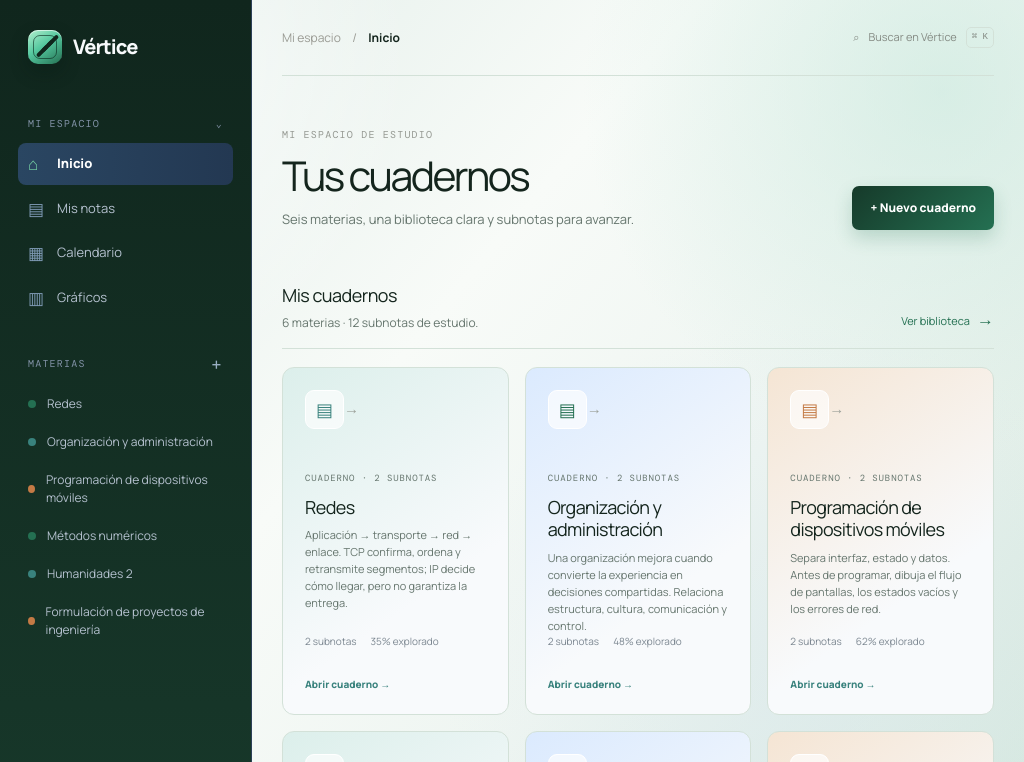
Test: panel principal de estudio › permite programar varias tareas en un día
This screenshot has width=1024, height=762.
Step 1. Click the button "▦ Calendario" → (126, 253), box [18,232,233,274]
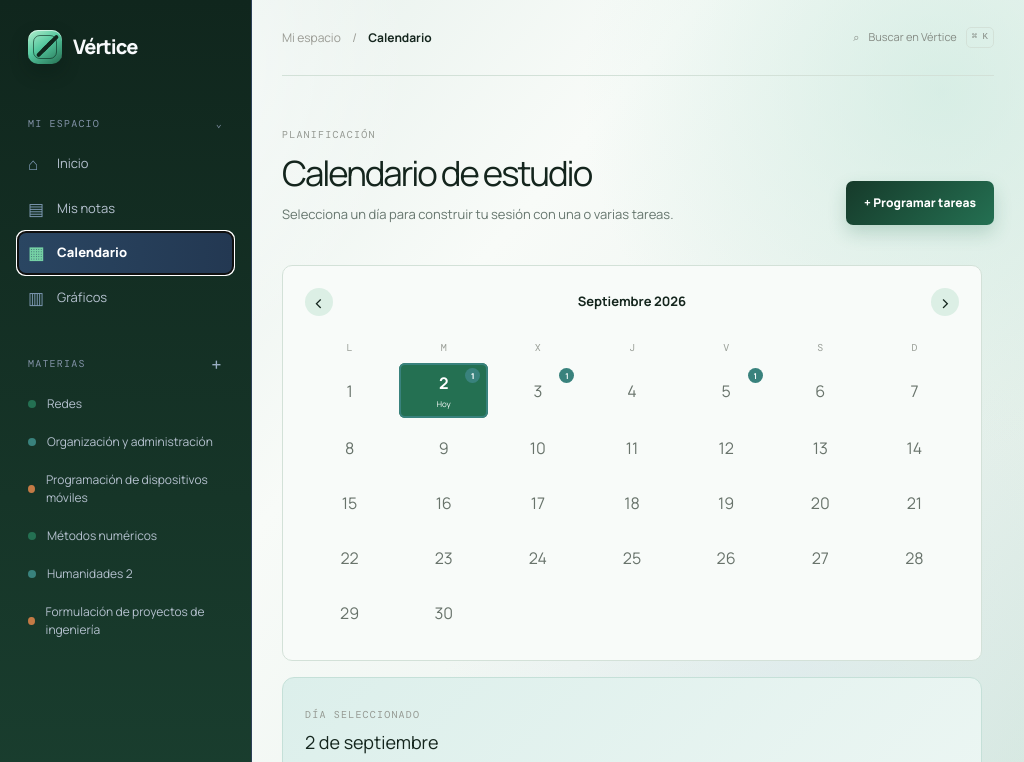
Step 2. Click the button named "Programar tareas para el 10 de septiembre" → (538, 448), box [493,423,582,473]
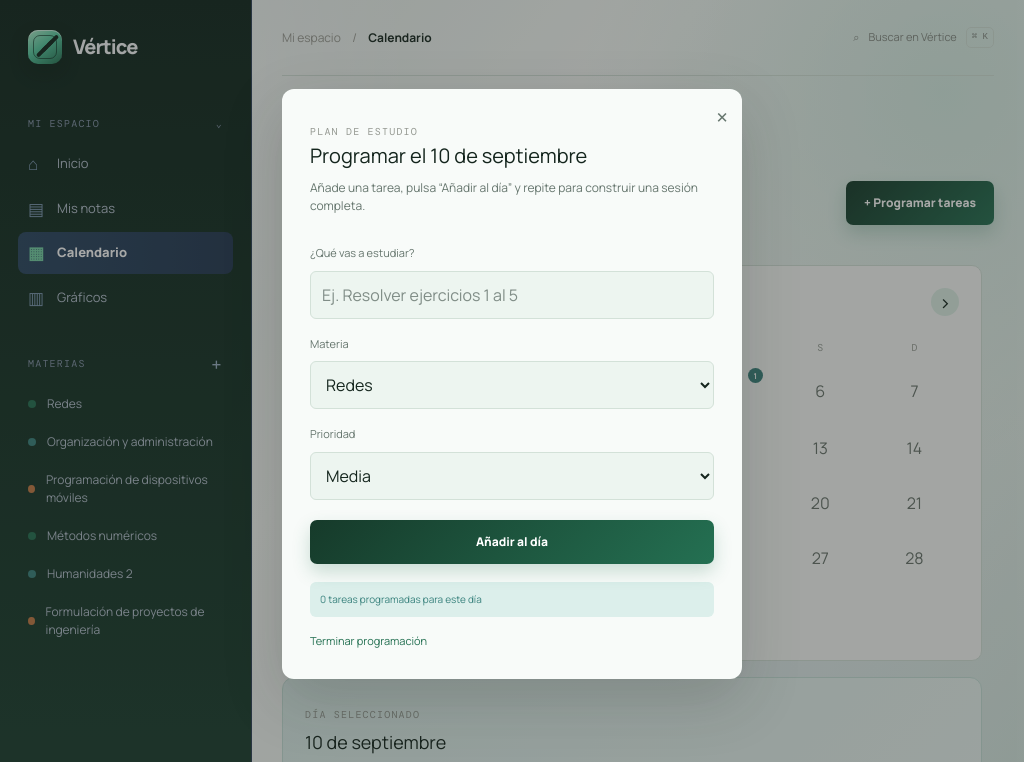
Step 3. Type "Resolver ejercicios de redes" into the field labelled "¿Qué vas a estudiar?" → (512, 295), box [310,271,714,319]
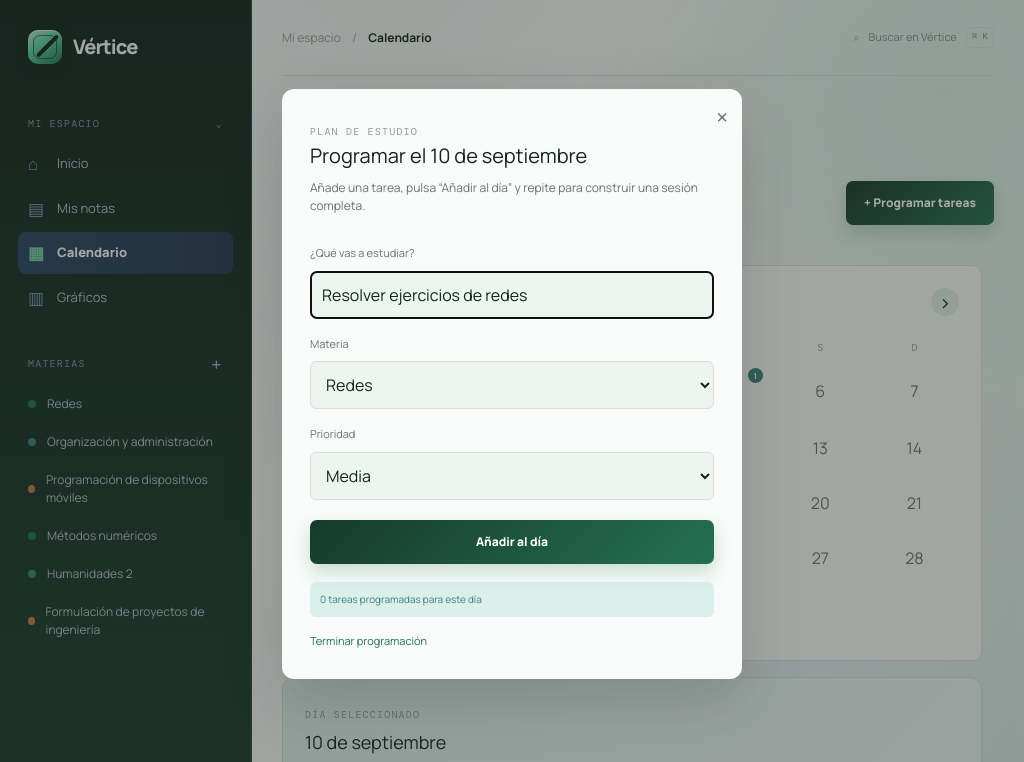
Step 4. Click the button "Añadir al día" → (512, 542), box [310,520,714,564]
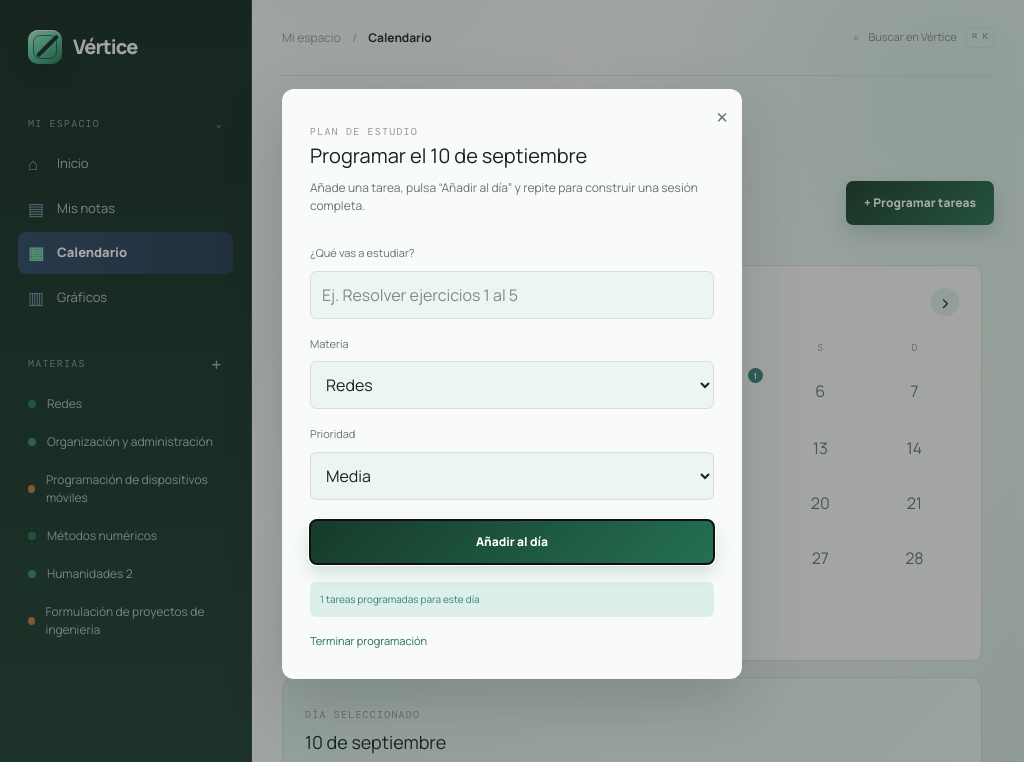
Step 5. Type "Repasar modelo OSI" into the field labelled "¿Qué vas a estudiar?" → (512, 295), box [310,271,714,319]
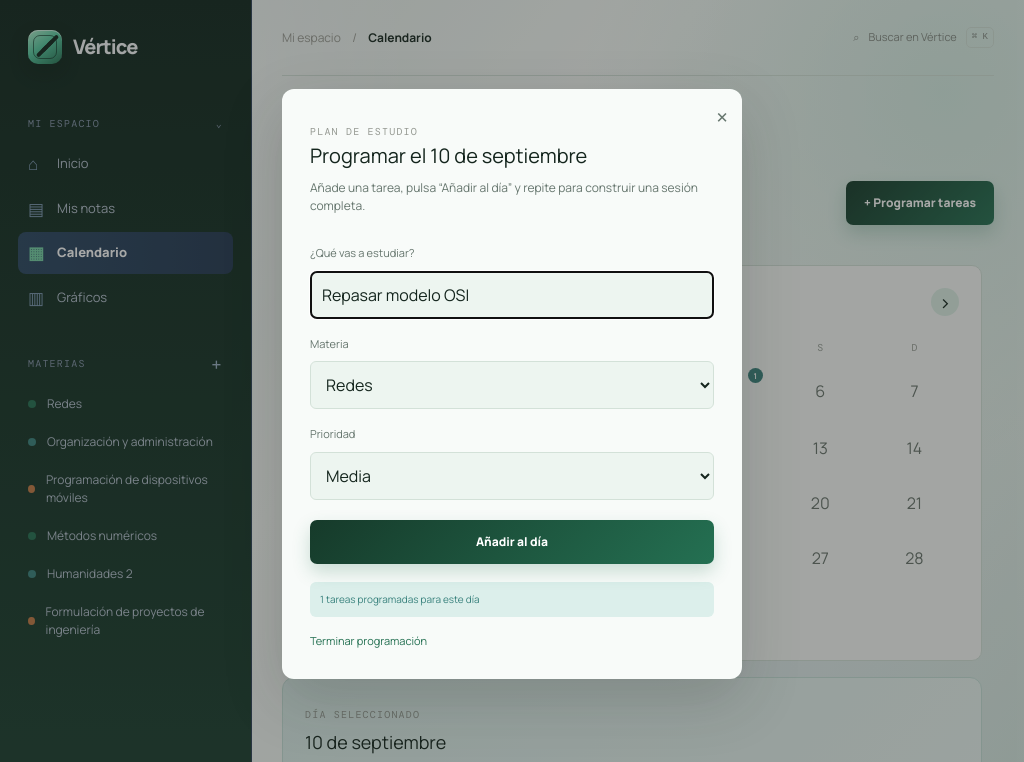
Step 6. Click the button "Añadir al día" → (512, 542), box [310,520,714,564]
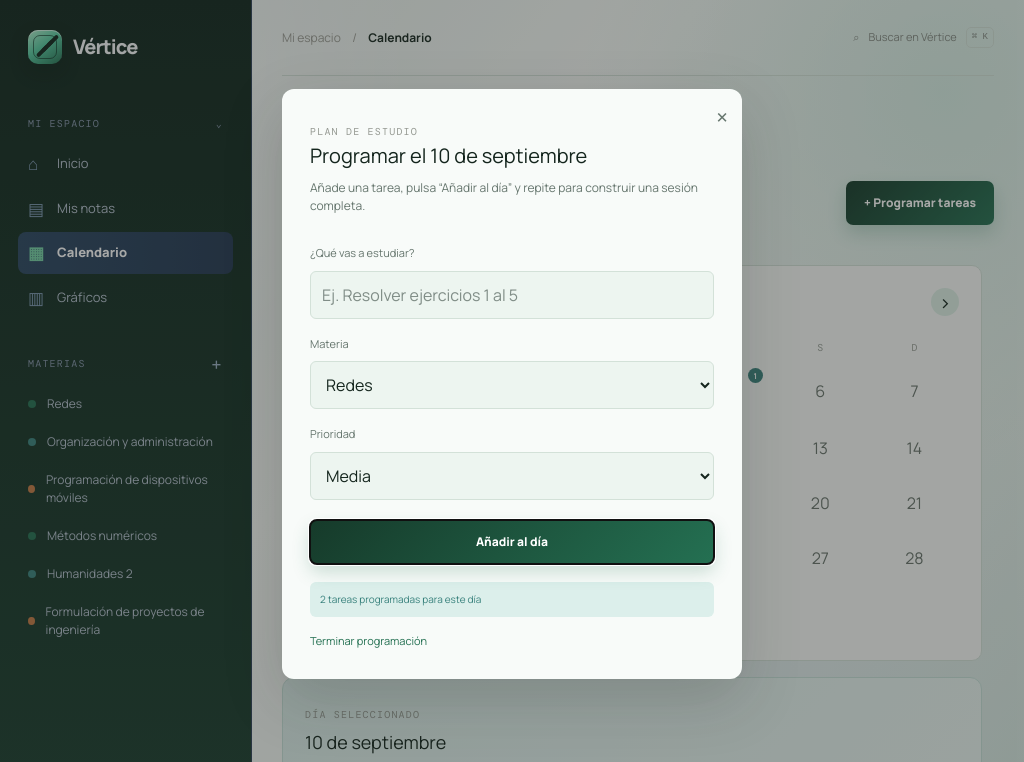
Expected: the text "2 tareas programadas para este día" is shown, [310,582,714,617]
